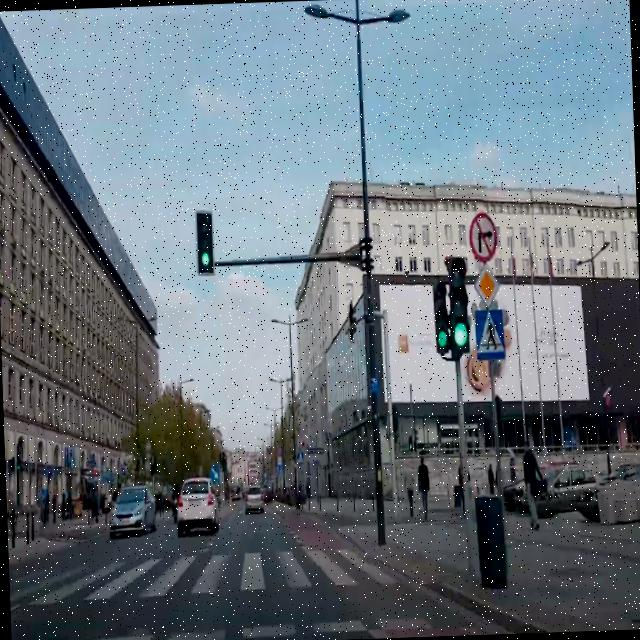Droga z pierwszenstwem: (472, 262, 502, 308)
Przejscie dla pieszych: (473, 308, 505, 361)
